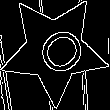O_SW: (23, 17, 86, 83)
